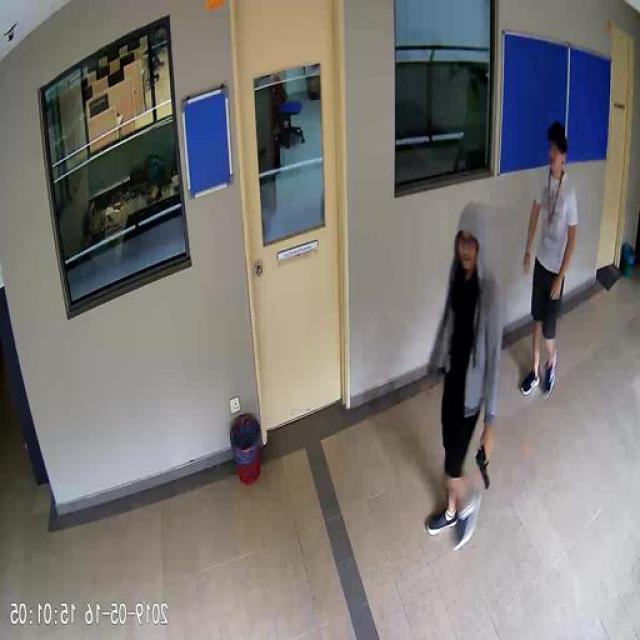Gun: (478, 440, 493, 488)
